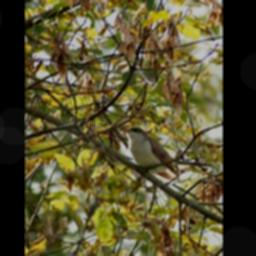Cuckoo: (117, 121, 186, 178)
